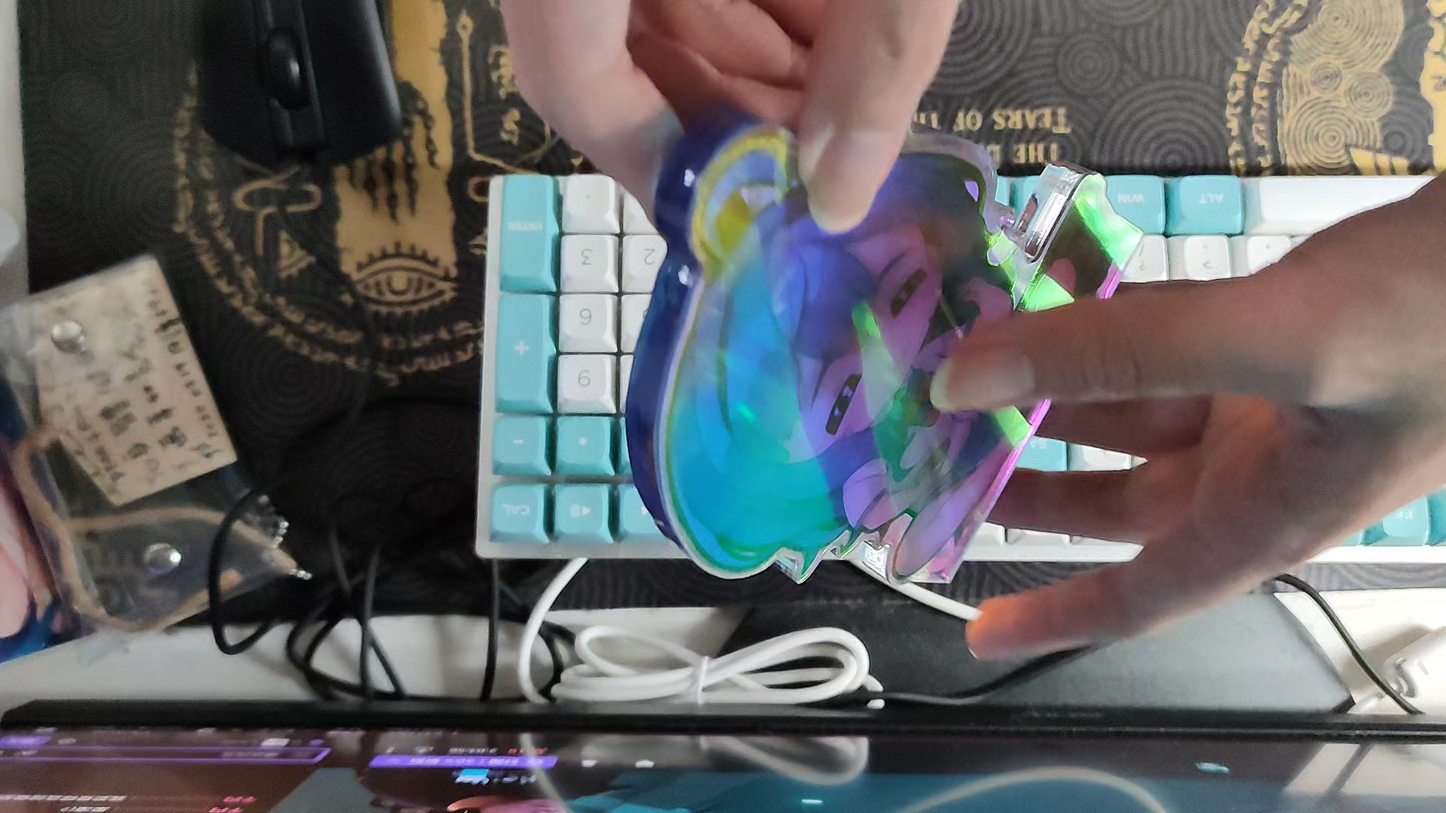Yanami-anna: (620, 113, 1145, 582)
